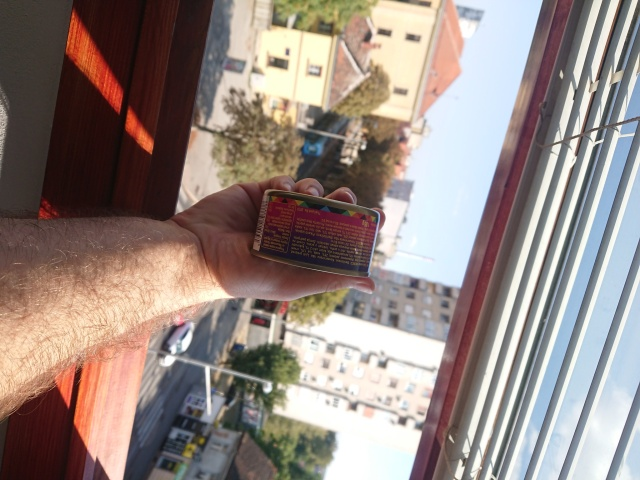Giana Tuna Salad Mexico 185g: (248, 187, 381, 281)
